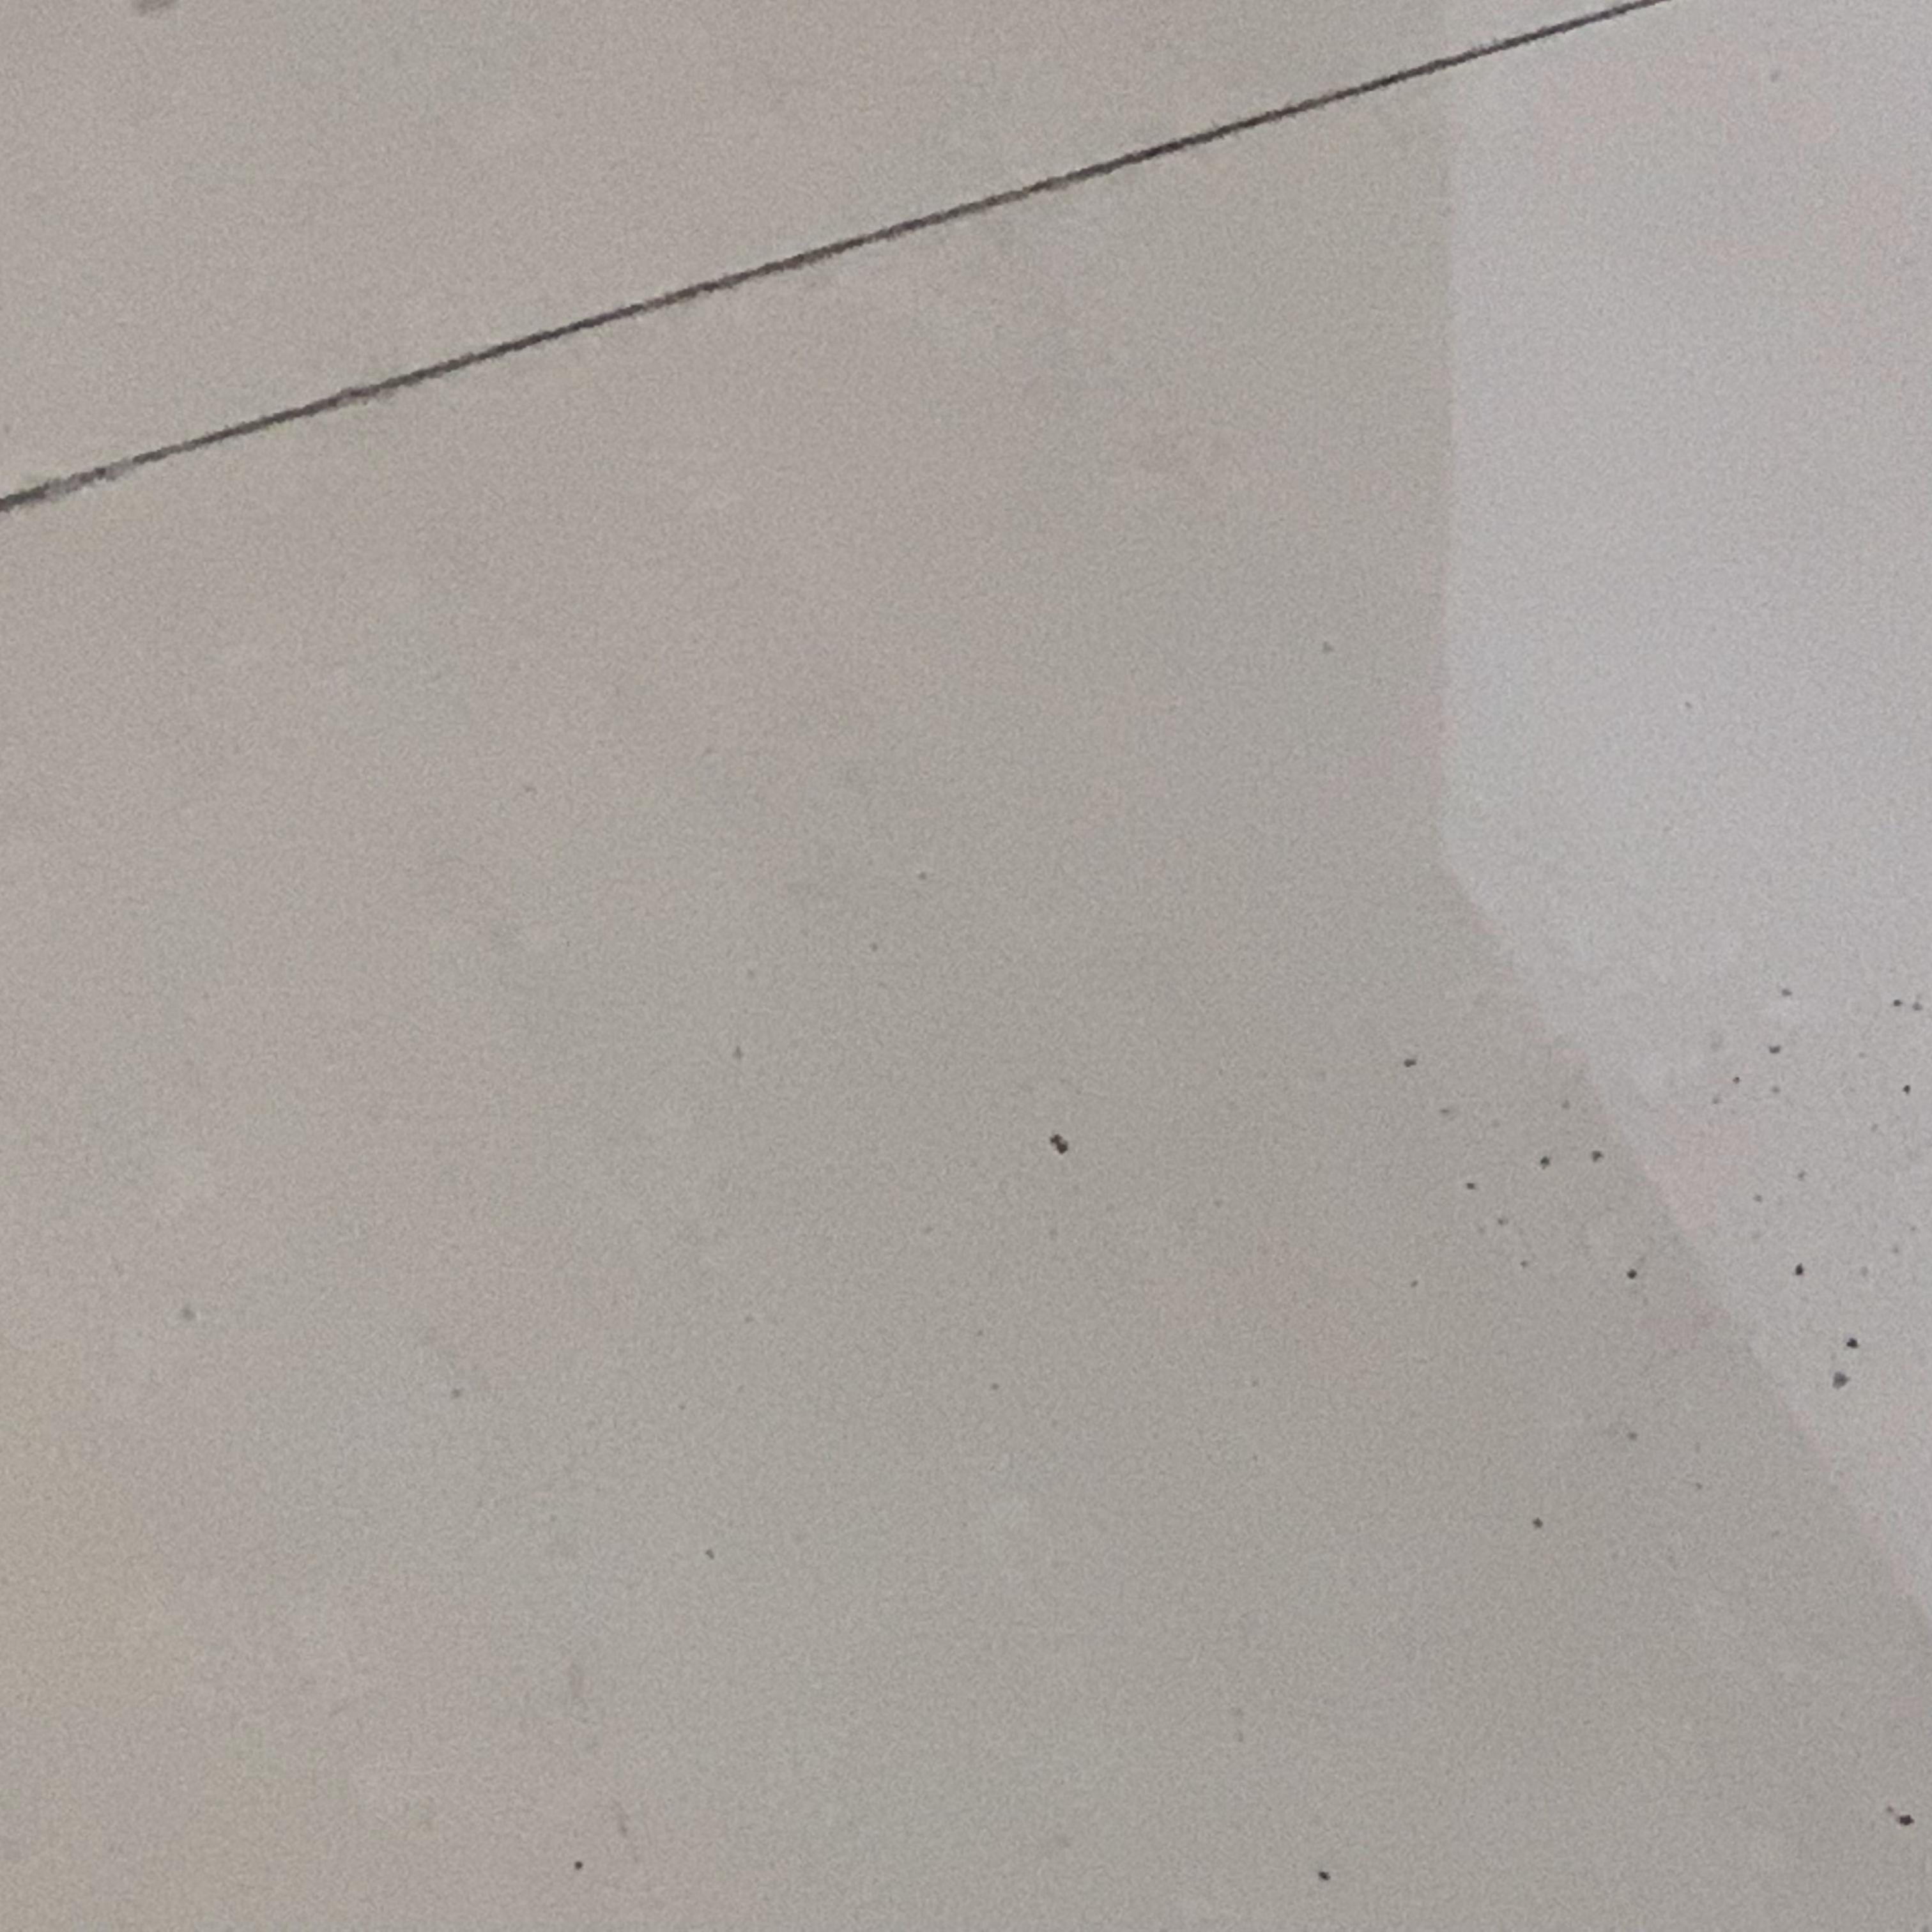reflection: (1437, 5, 1932, 1629)
